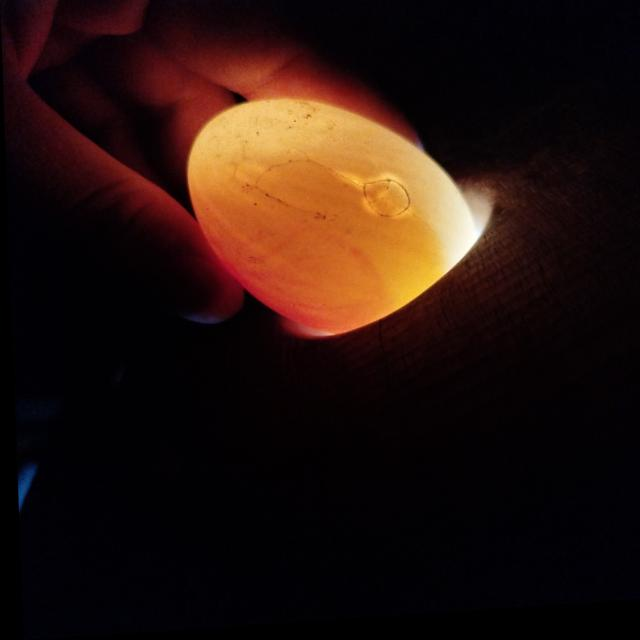Gema Quebrada: (187, 189, 394, 339)
Rachadura: (362, 185, 408, 222)
